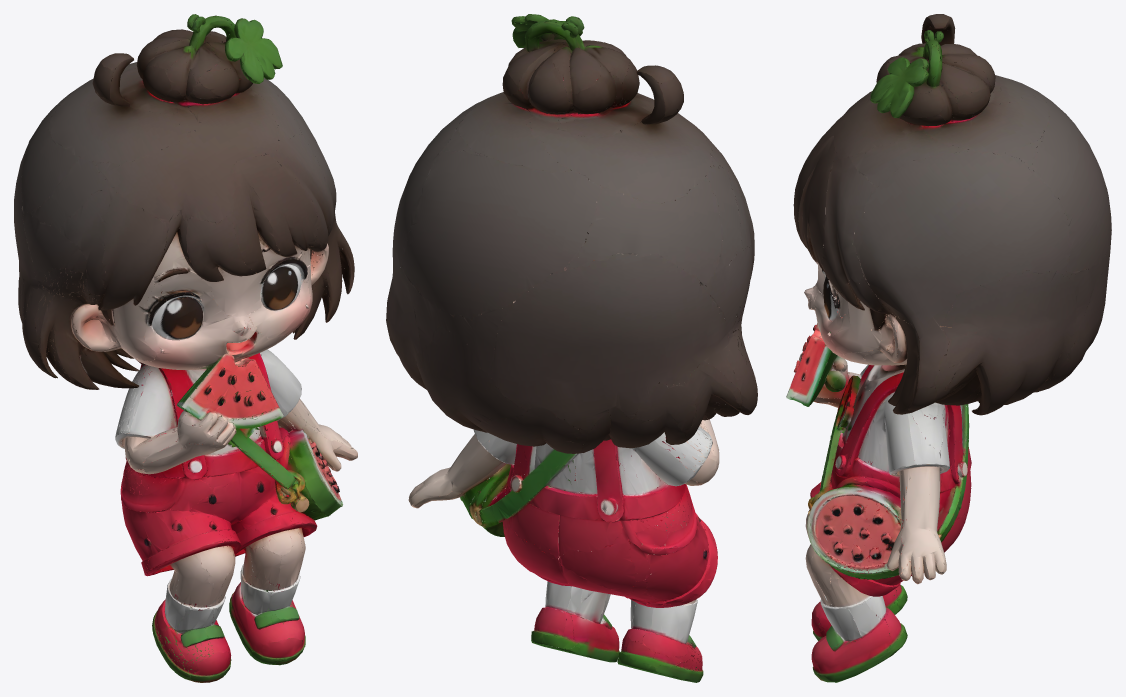
File: duomei-mobile.glb
3 renders of one model, left to right at view 1: azimuth 30°, elevation 25°; view 2: azimuth 150°, elevation 25°; view 3: azimuth 270°, elevation 25°, orthographic. The views are drawn at different scales.
Visible parts, largest first — view 1: node_0; view 2: node_0; view 3: node_0.
Part boxes in pixels (box(x1,y1,x2,y2)): node_0: box(14, 14, 357, 682); node_0: box(386, 14, 757, 682); node_0: box(786, 14, 1111, 682).
Size of the model in its own units: 0.5998 by 1.12 by 0.5231.
1 material, 1 textured.
